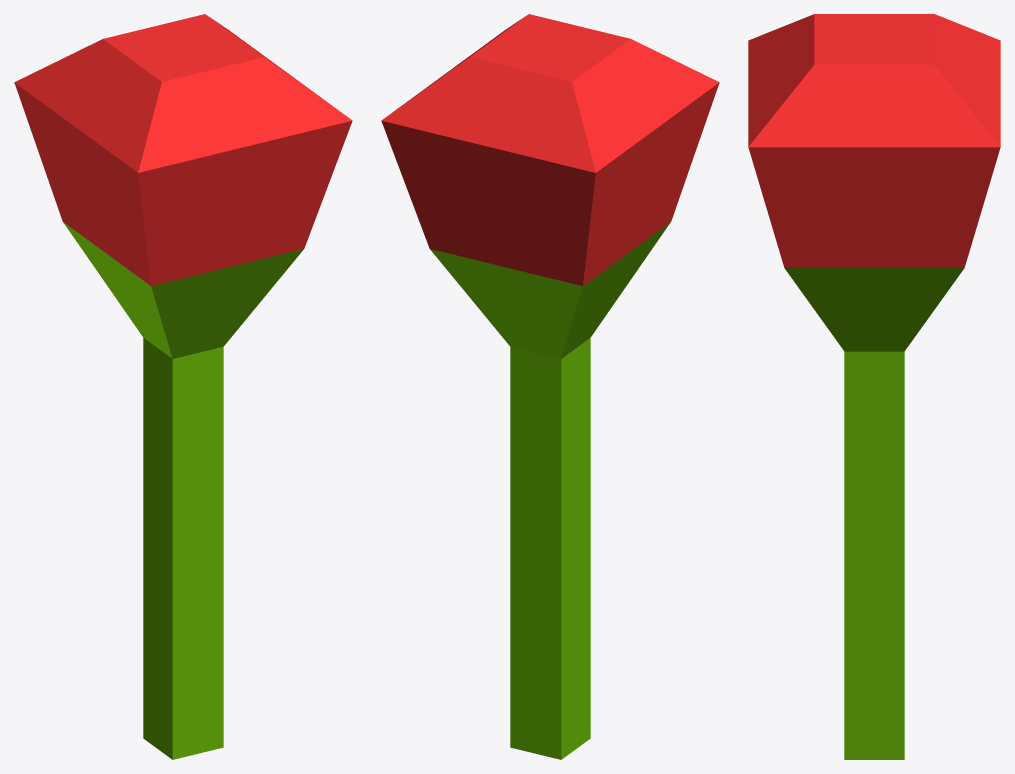
File: Sprout_R.fbx
The picture shows the model from 3 angles, left to right: view 1: azimuth 30°, elevation 25°; view 2: azimuth 150°, elevation 25°; view 3: azimuth 270°, elevation 25°; orthographic projection.
Parts seen in each view (by area): view 1: Flower_01_Bud; view 2: Flower_01_Bud; view 3: Flower_01_Bud.
Part boxes in pixels (x1,y1,x2,y2): Flower_01_Bud: (14, 14, 352, 759); Flower_01_Bud: (381, 14, 719, 759); Flower_01_Bud: (748, 14, 1000, 759).
Bounding box in the file's own units: 5.04 × 15.6 × 5.04.
1 material, 1 textured.
